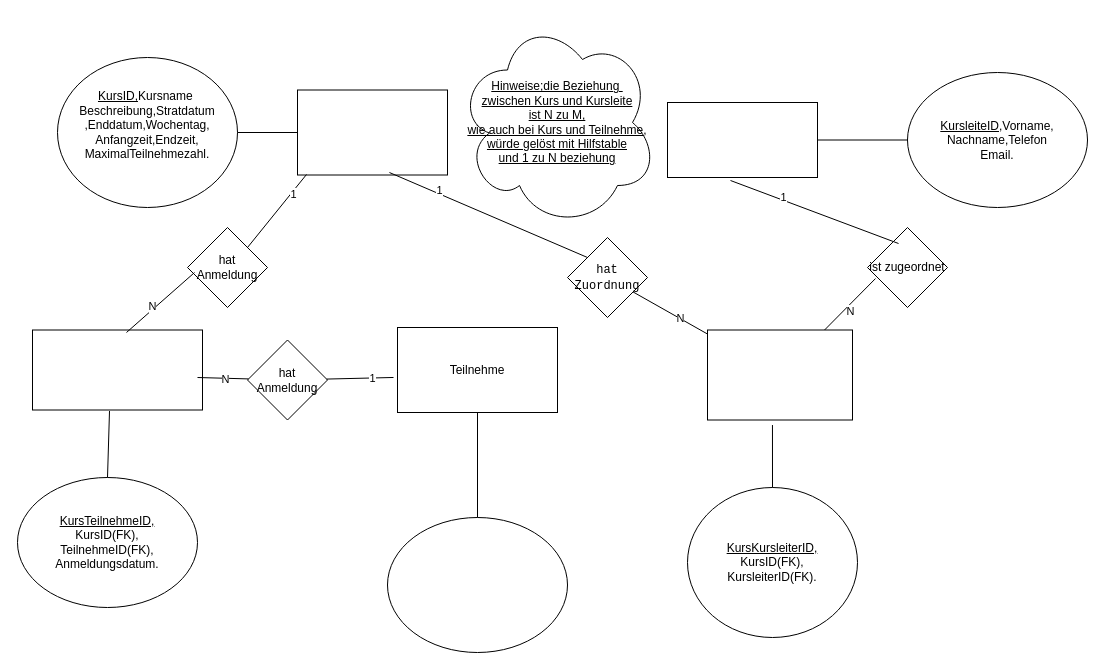
This 1105x670 diagram has some shape labels left out. Each missing label, with the box of its shape:
Kurs: (296, 89, 448, 175)
KursKursleiter: (706, 329, 852, 420)
Kursleite: (666, 102, 818, 178)
KursTeilnehme: (32, 329, 202, 410)
TeilnehmeID ,Vorname, Nachname,Geburtstag, Telefon,Email.: (386, 516, 568, 652)
